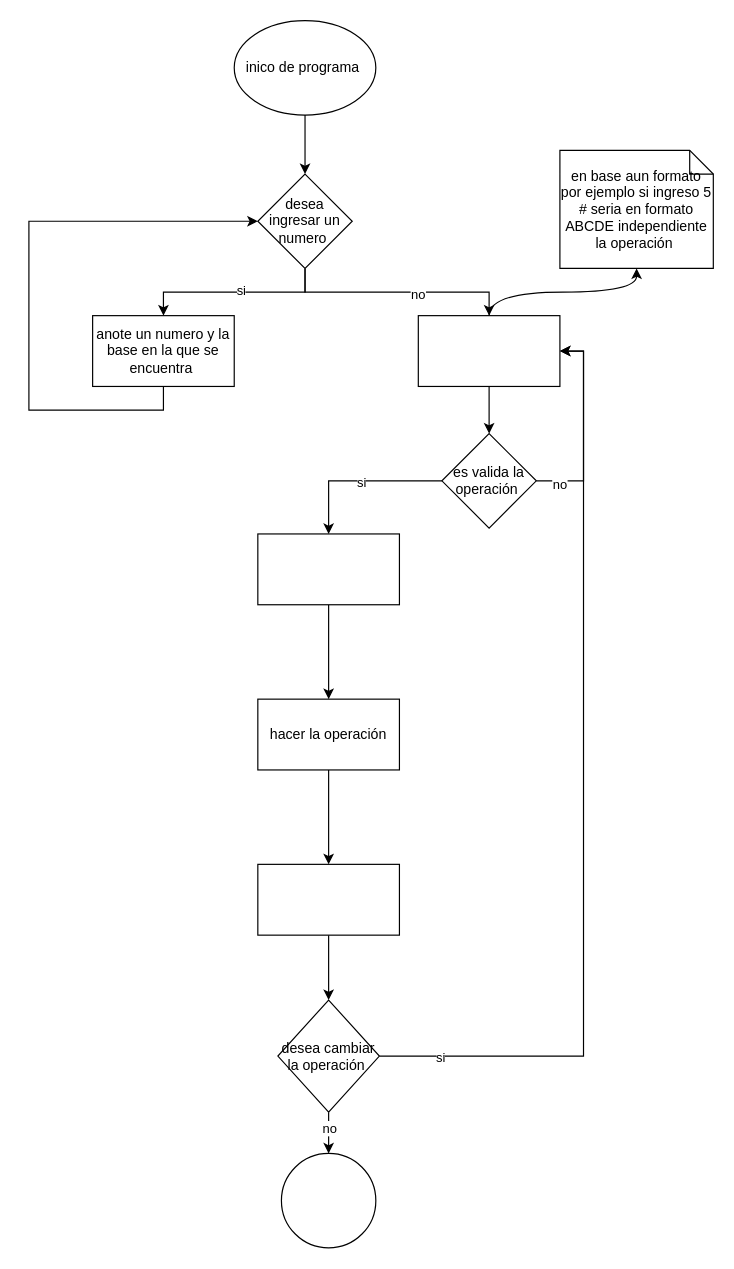
The diagram is 734 pixels wide and 1269 high, and some of its shapes have lost their labels. The shapes that lost their labels are listed below. From the top down, each one's box as (x1, y1, x2, y2) in pixels, then its label:
(417, 314, 560, 386): indique la operación
(257, 533, 399, 605): volver numero a base 10
(257, 863, 399, 935): mostrar resultado en cada base
(280, 1152, 376, 1248): fin del programa
